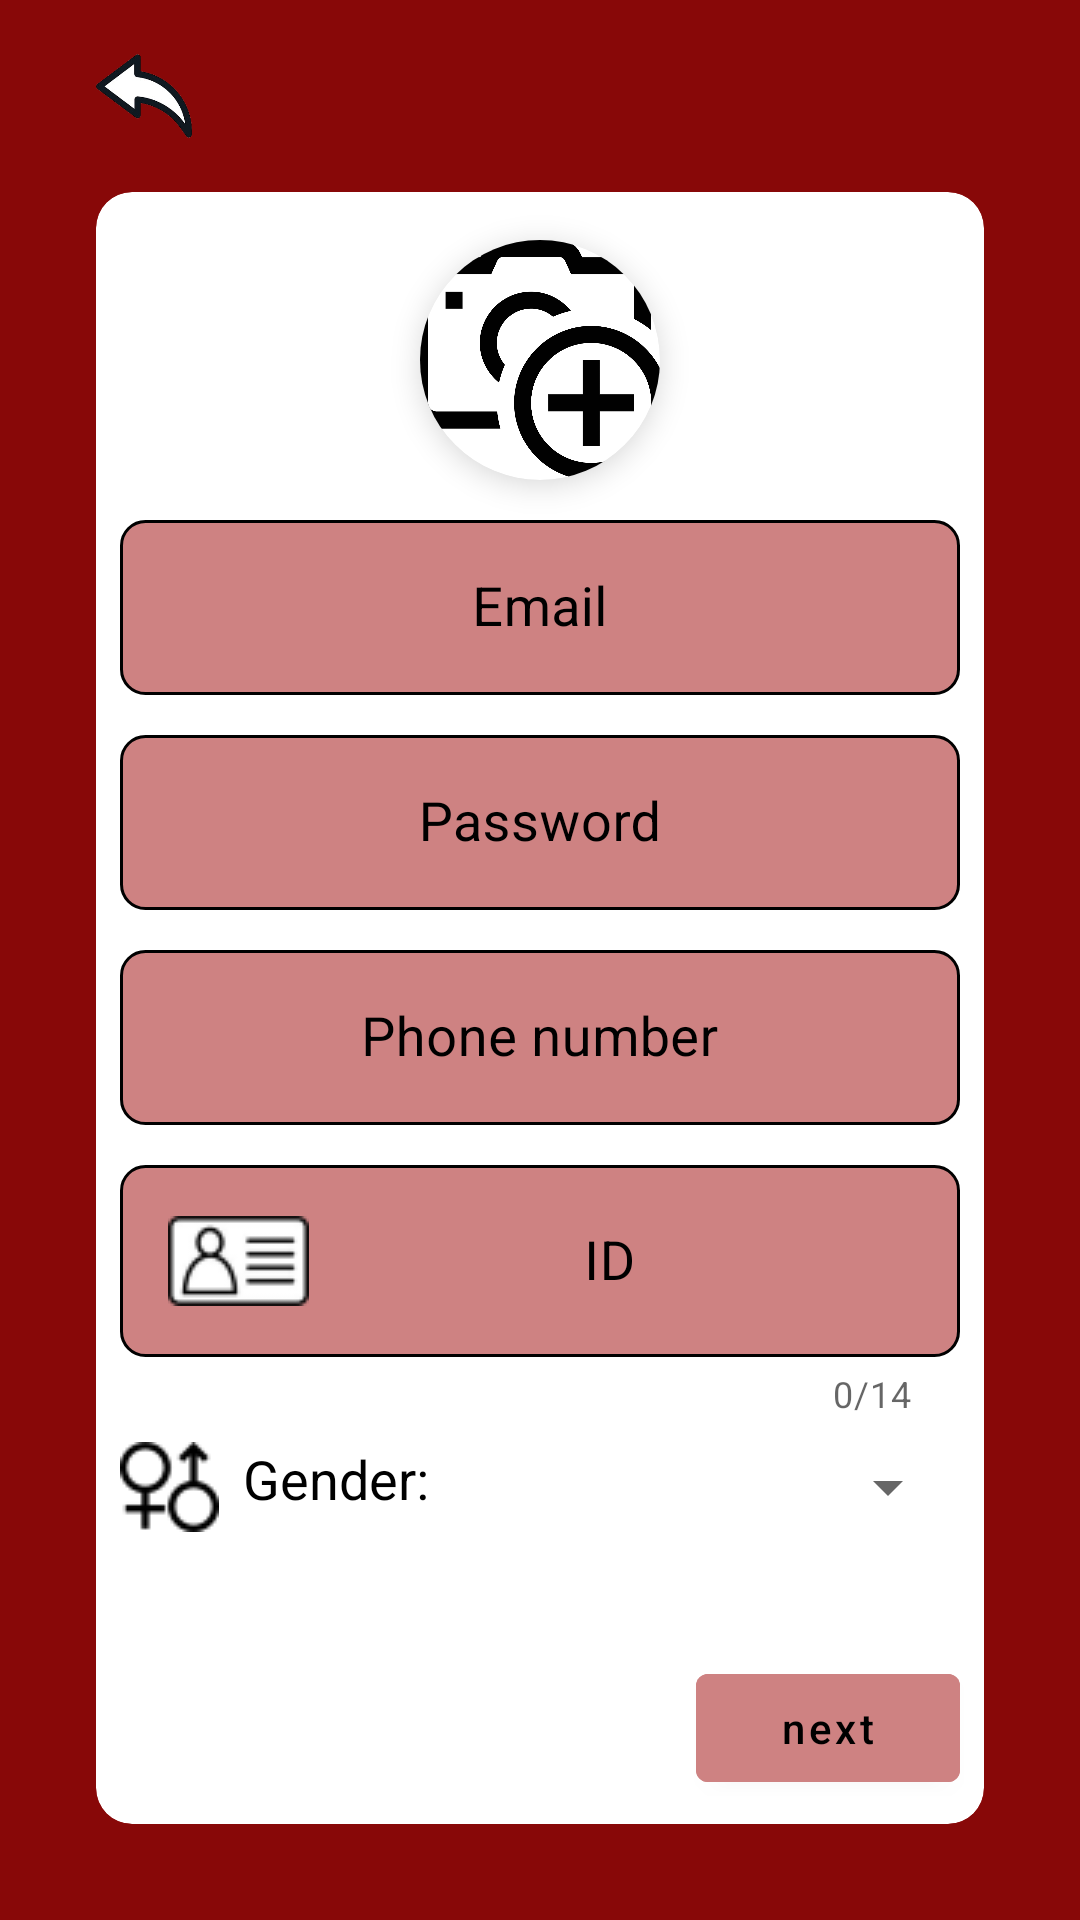

Locate icon controls on the screen. Image size 1080×1920, boxes as (left=x1, top=y1, right=x2, bottom=y2).
back: (left=96, top=54, right=192, bottom=138)
